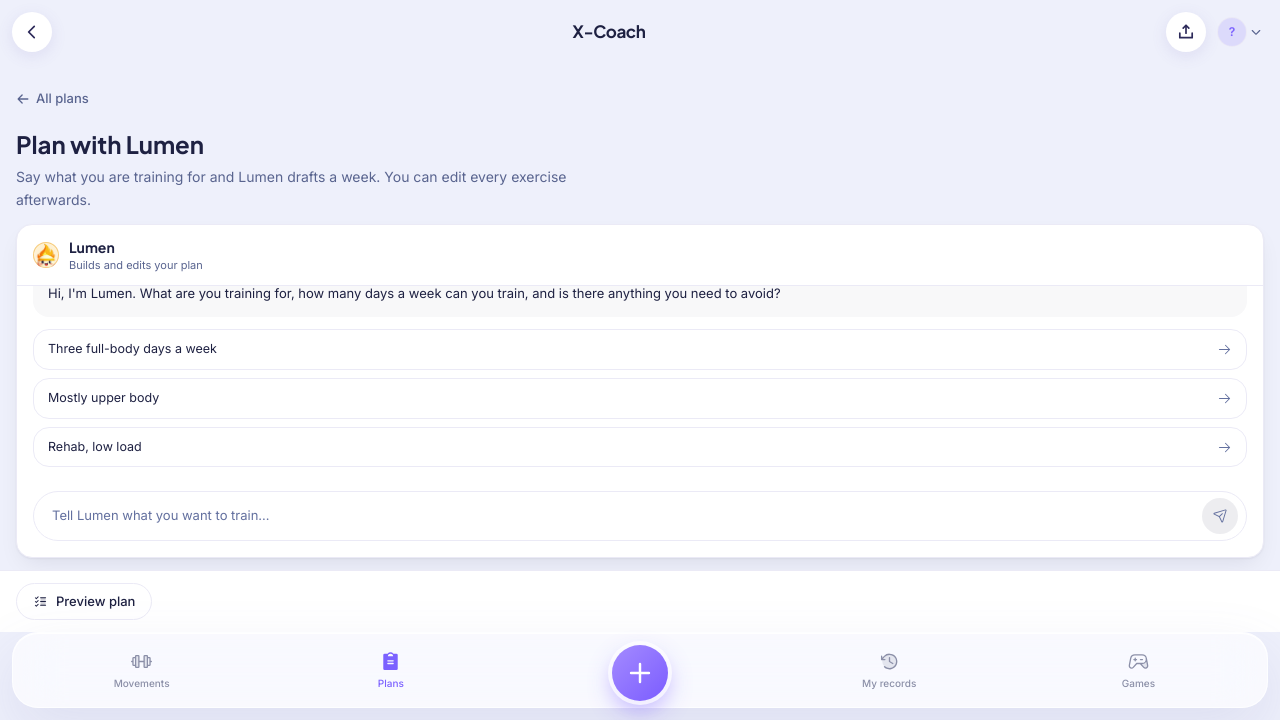
Test: PlanBuilder — on the phone › closes the sheet from its close button
(page scrolled)
Click the button "Preview plan".
click(84, 601)  # box [16,582,152,620]
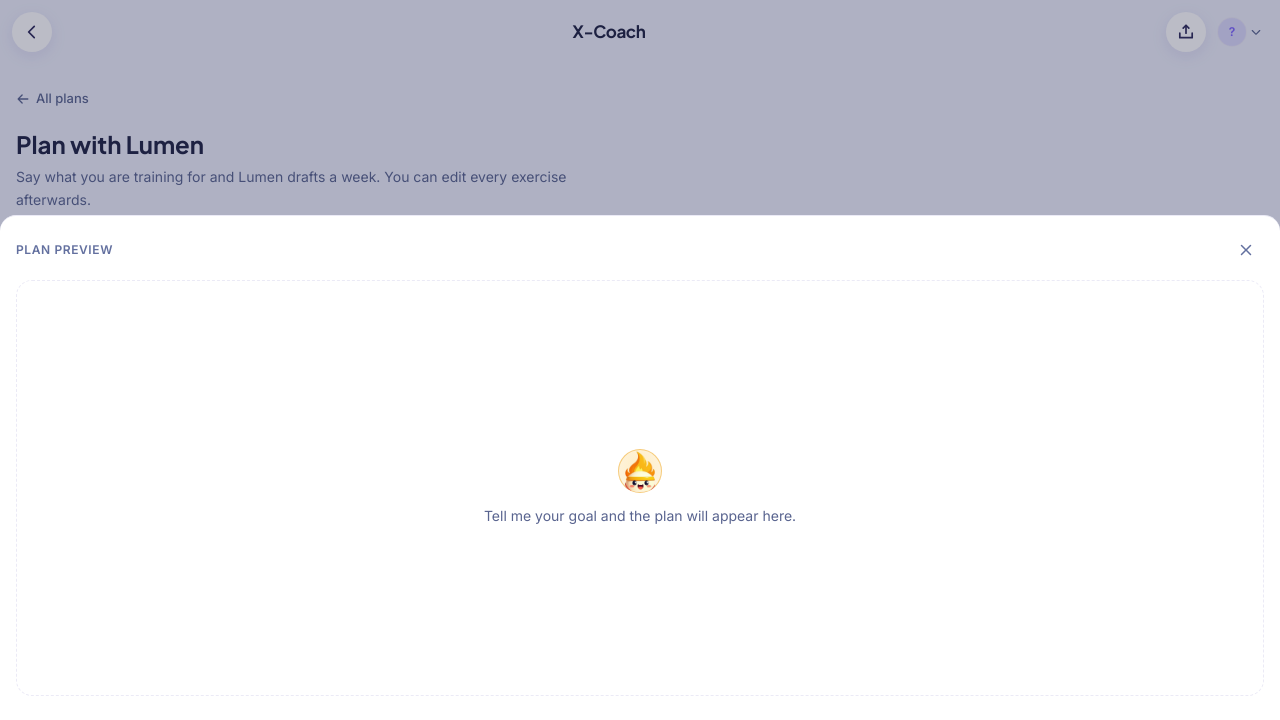
Click the button named "Close preview" in the row of "Plan preview".
click(1246, 250)  # box [1228,232,1264,268]
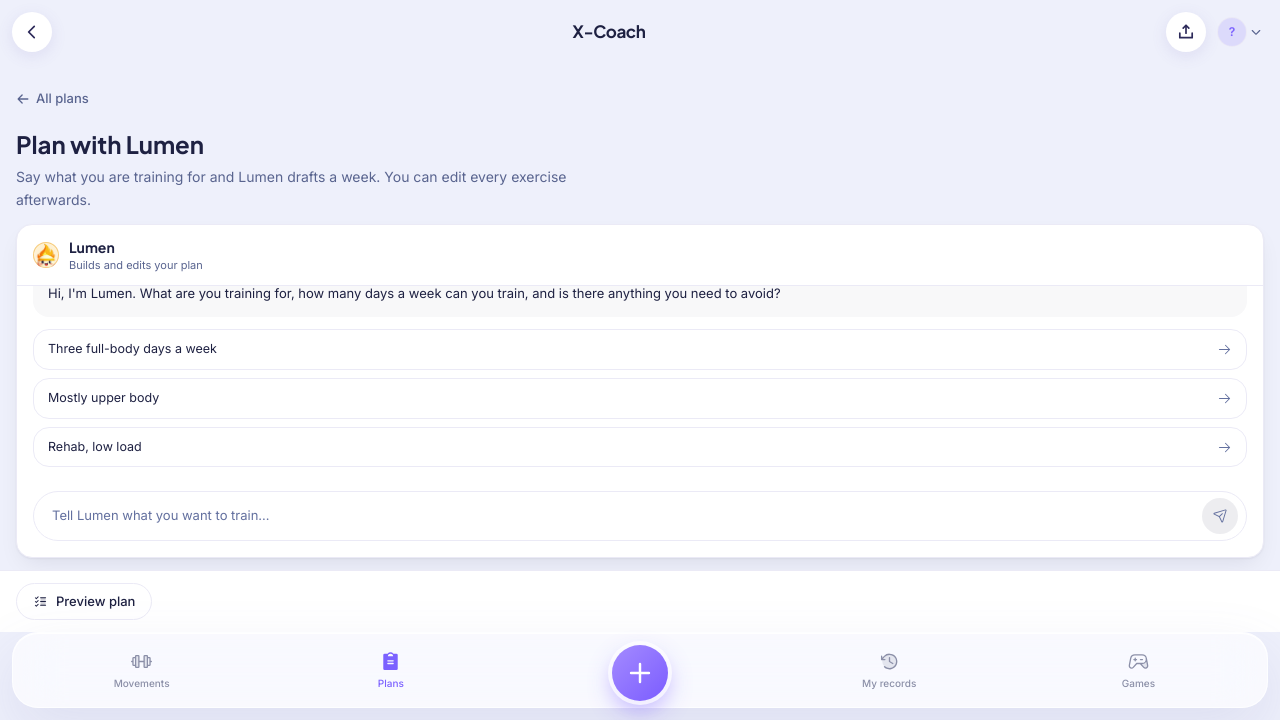
Expected: the dialog is gone
